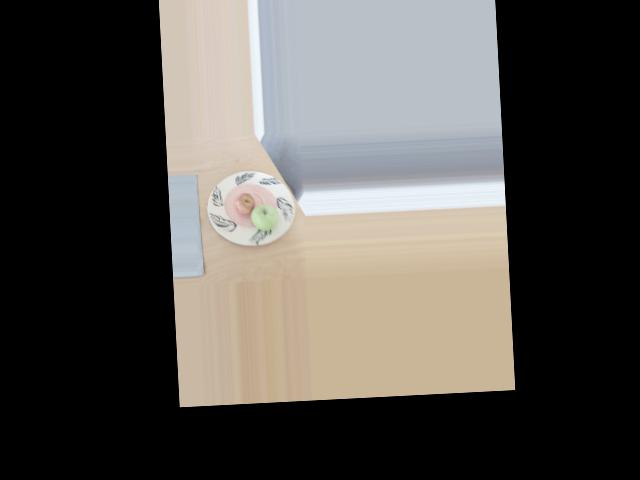apple: (250, 204, 280, 233)
